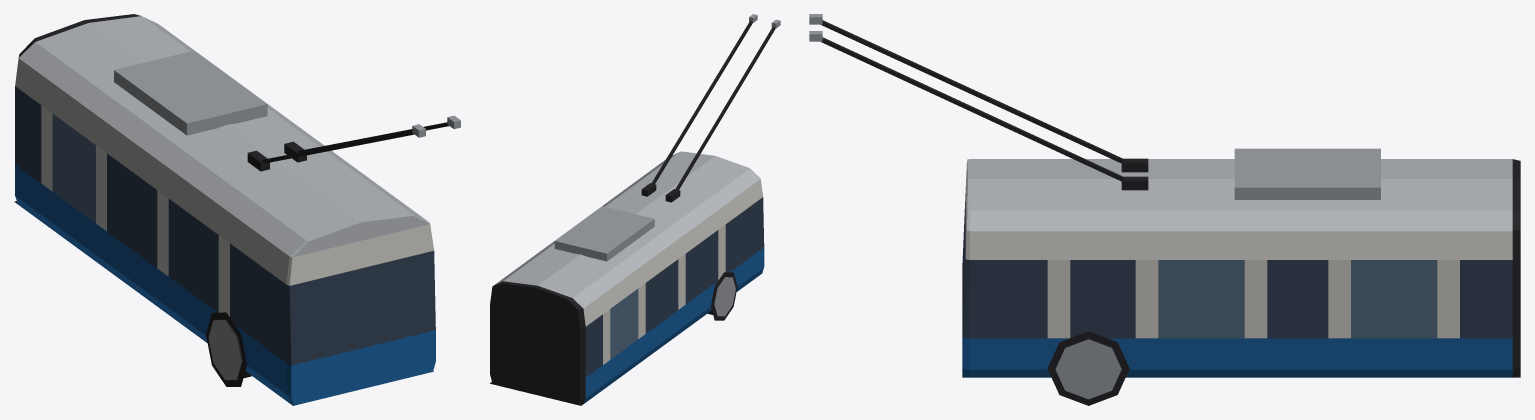
File: trolley_hinten.glb
The picture shows the model from 3 angles, left to right: view 1: azimuth 30°, elevation 25°; view 2: azimuth 150°, elevation 25°; view 3: azimuth 270°, elevation 25°; orthographic projection. The views are drawn at different scales.
Visible parts, largest first — view 1: body; view 2: body; view 3: body.
Boxes of the visible parts, x1,y1,x2,y2 form: body: [14, 14, 460, 405]; body: [490, 14, 780, 405]; body: [809, 14, 1520, 405].
Size of the model in its own units: 2.62 by 5.74 by 10.7.
